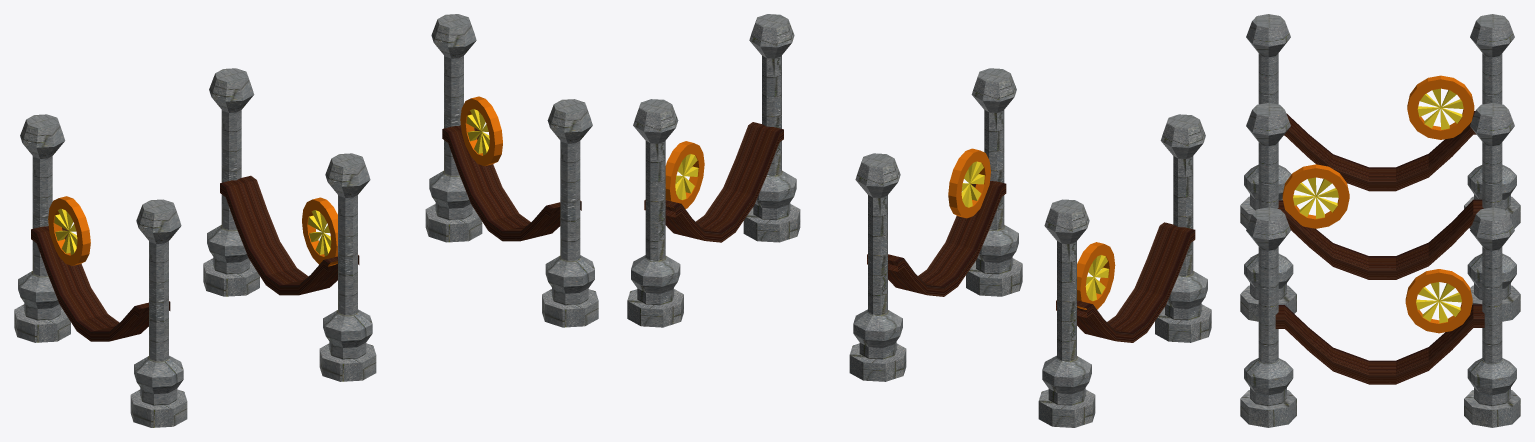
The model's file is ChariotWheels.fbx.
3 renders of one model, left to right at view 1: azimuth 30°, elevation 25°; view 2: azimuth 150°, elevation 25°; view 3: azimuth 270°, elevation 25°, orthographic. The views are drawn at different scales.
Visible parts, largest first — view 1: Pillar1.005, Pillar1.003, Pillar1.001, Pillar1.002, Pillar1.004, Pillar1.006, Cube.002, Cube.003, Cube.001, Cylinder.002, Cylinder.001, Cylinder (+3 smaller); view 2: Pillar1.006, Pillar1.004, Pillar1.002, Pillar1.003, Pillar1.005, Pillar1.001, Cube.003, Cube.001, Cube.002, Cylinder, Cylinder.002, Cylinder.001 (+3 smaller); view 3: Pillar1.006, Pillar1.005, Cube.003, Cube.002, Pillar1.001, Pillar1.002, Cube.001, Pillar1.004, Pillar1.003, Cylinder.002, Cylinder.001, Cylinder (+3 smaller).
Part boxes in pixels (left/top/right/bottom): Pillar1.005: left=542, top=99, right=598, bottom=327; Pillar1.003: left=130, top=199, right=187, bottom=427; Pillar1.001: left=319, top=153, right=376, bottom=381; Pillar1.002: left=203, top=68, right=259, bottom=296; Pillar1.004: left=14, top=114, right=70, bottom=342; Pillar1.006: left=425, top=14, right=482, bottom=242; Cube.002: left=220, top=175, right=359, bottom=295; Cube.003: left=442, top=125, right=581, bottom=241; Cube.001: left=31, top=226, right=170, bottom=341; Cylinder.002: left=460, top=96, right=502, bottom=166; Cylinder.001: left=48, top=196, right=90, bottom=265; Cylinder: left=302, top=197, right=337, bottom=266; Pillar1.006: left=627, top=99, right=683, bottom=327; Pillar1.004: left=1038, top=199, right=1095, bottom=427; Pillar1.002: left=849, top=153, right=906, bottom=381; Pillar1.003: left=1155, top=114, right=1211, bottom=342; Pillar1.005: left=743, top=14, right=800, bottom=242; Pillar1.001: left=966, top=68, right=1022, bottom=296; Cube.003: left=644, top=122, right=783, bottom=242; Cube.001: left=1056, top=222, right=1195, bottom=342; Cube.002: left=867, top=181, right=1006, bottom=296; Cylinder: left=948, top=148, right=990, bottom=218; Cylinder.002: left=665, top=141, right=704, bottom=208; Cylinder.001: left=1077, top=242, right=1115, bottom=309; Pillar1.006: left=1464, top=207, right=1520, bottom=427; Pillar1.005: left=1240, top=207, right=1296, bottom=427; Cube.003: left=1275, top=304, right=1484, bottom=384; Cube.002: left=1278, top=199, right=1483, bottom=279; Pillar1.001: left=1240, top=103, right=1296, bottom=321; Pillar1.002: left=1467, top=103, right=1520, bottom=321; Cube.001: left=1284, top=111, right=1476, bottom=191; Pillar1.004: left=1464, top=14, right=1520, bottom=228; Pillar1.003: left=1240, top=14, right=1291, bottom=228; Cylinder.002: left=1405, top=269, right=1472, bottom=333; Cylinder.001: left=1407, top=75, right=1474, bottom=139; Cylinder: left=1282, top=164, right=1349, bottom=228.
Size of the model in its own units: 21.98 by 9.52 by 11.99.
